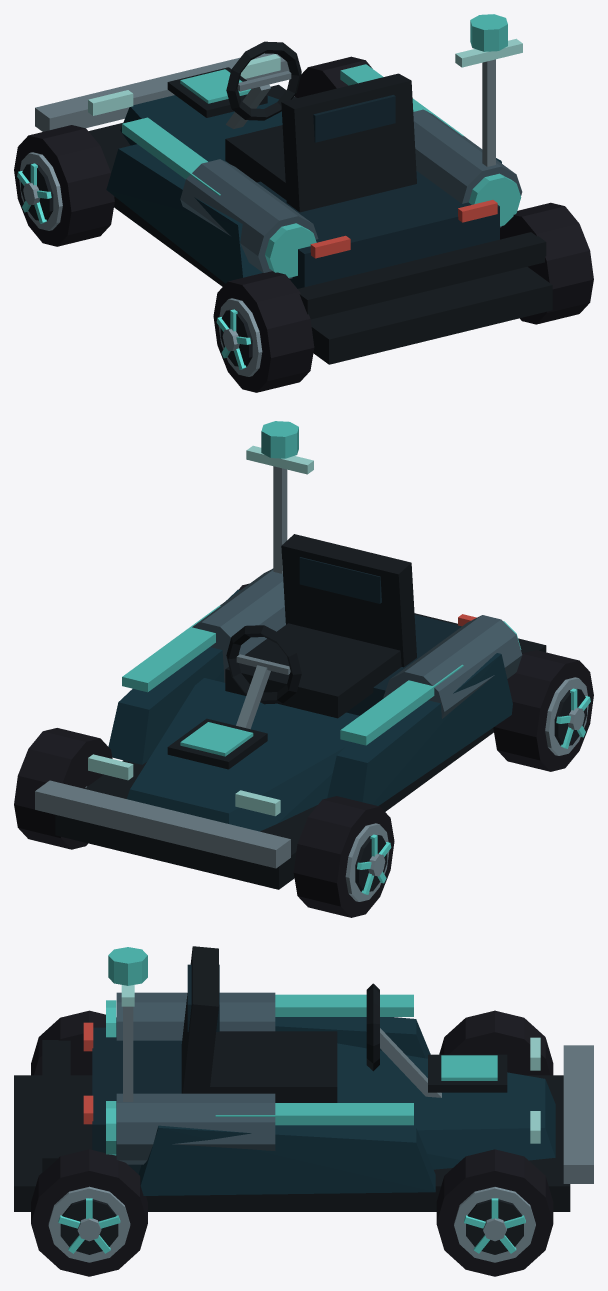
The model's file is kart.glb.
The picture shows the model from 3 angles, top to bottom: view 1: azimuth 30°, elevation 25°; view 2: azimuth 150°, elevation 25°; view 3: azimuth 270°, elevation 25°; orthographic projection.
Parts seen in each view (by area): view 1: chassis, wheel-rear-left, wheel-front-left, wheel-rear-right, wheel-front-right; view 2: chassis, wheel-front-left, wheel-rear-left, wheel-front-right; view 3: chassis, wheel-front-right, wheel-rear-right, wheel-front-left, wheel-rear-left.
Part boxes in pixels (x1=…): chassis: x1=35, y1=14, x2=552, y2=364; wheel-rear-left: x1=213, y1=271, x2=314, y2=392; wheel-front-left: x1=14, y1=125, x2=114, y2=246; wheel-rear-right: x1=500, y1=202, x2=593, y2=324; wheel-front-right: x1=295, y1=56, x2=372, y2=97; chassis: x1=35, y1=421, x2=546, y2=889; wheel-front-left: x1=293, y1=796, x2=394, y2=917; wheel-rear-left: x1=493, y1=650, x2=593, y2=771; wheel-front-right: x1=14, y1=728, x2=112, y2=849; chassis: x1=14, y1=946, x2=593, y2=1211; wheel-front-right: x1=436, y1=1149, x2=553, y2=1276; wheel-rear-right: x1=31, y1=1149, x2=147, y2=1276; wheel-front-left: x1=439, y1=1010, x2=553, y2=1075; wheel-rear-left: x1=31, y1=1010, x2=116, y2=1075.
Size of the model in its own units: 2.18 by 1.72 by 3.08.
